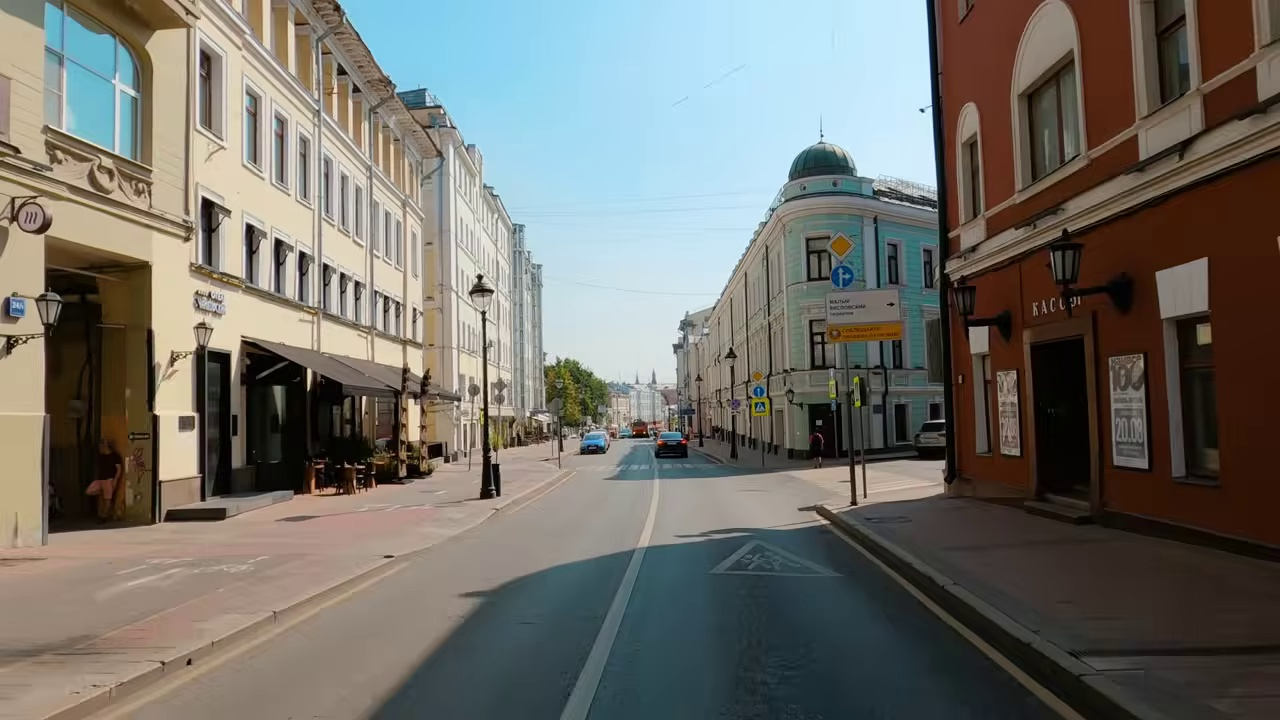apagada: (465, 276, 496, 302)
